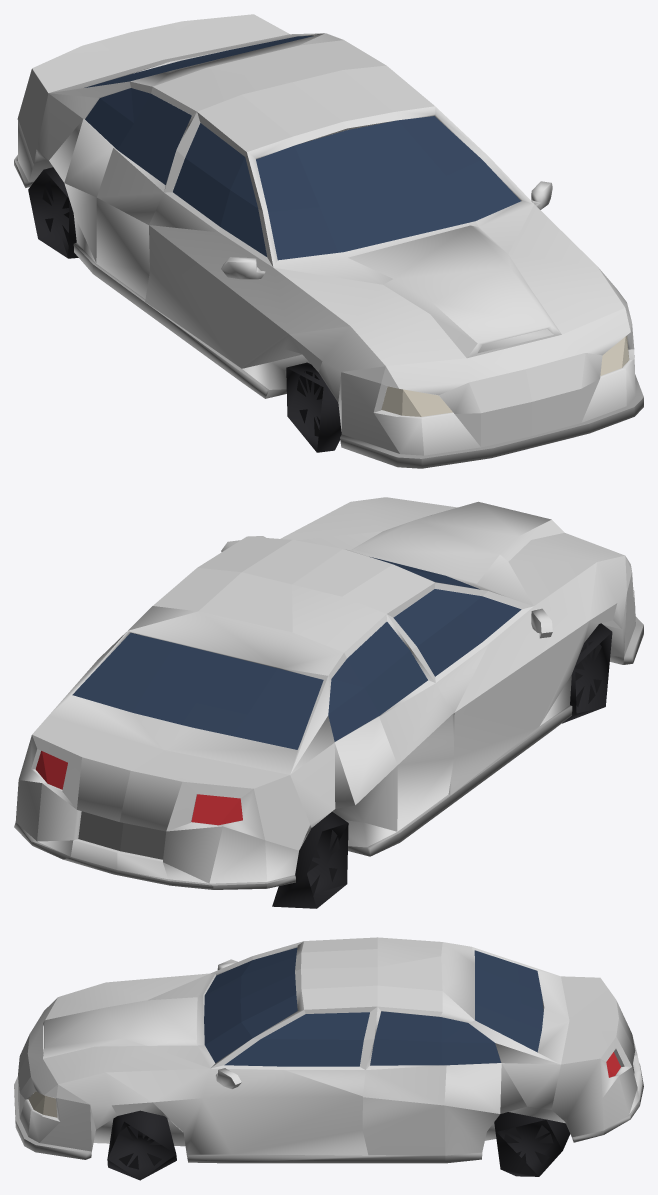
The model's file is coupe-lo.glb.
3 views of the same model, one above another, from view 1: azimuth 30°, elevation 25°; view 2: azimuth 150°, elevation 25°; view 3: azimuth 270°, elevation 25° (orthographic). The views are drawn at different scales.
Visible parts, largest first — view 1: paint, glass, tyre, light; view 2: paint, glass, tyre, trim, light; view 3: paint, glass, tyre, light.
Part boxes in pixels (left/top/right/bottom): paint: left=14, top=14, right=643, bottom=468; glass: left=85, top=36, right=520, bottom=260; tyre: left=28, top=167, right=341, bottom=452; light: left=381, top=335, right=629, bottom=416; paint: left=14, top=497, right=643, bottom=889; glass: left=72, top=557, right=521, bottom=749; tyre: left=272, top=623, right=612, bottom=908; trim: left=78, top=811, right=165, bottom=859; light: left=35, top=751, right=242, bottom=825; paint: left=14, top=937, right=643, bottom=1163; glass: left=204, top=947, right=543, bottom=1066; tyre: left=107, top=1110, right=569, bottom=1180; light: left=28, top=1052, right=620, bottom=1117.
Size of the model in its own units: 2 by 1.3 by 4.4.
